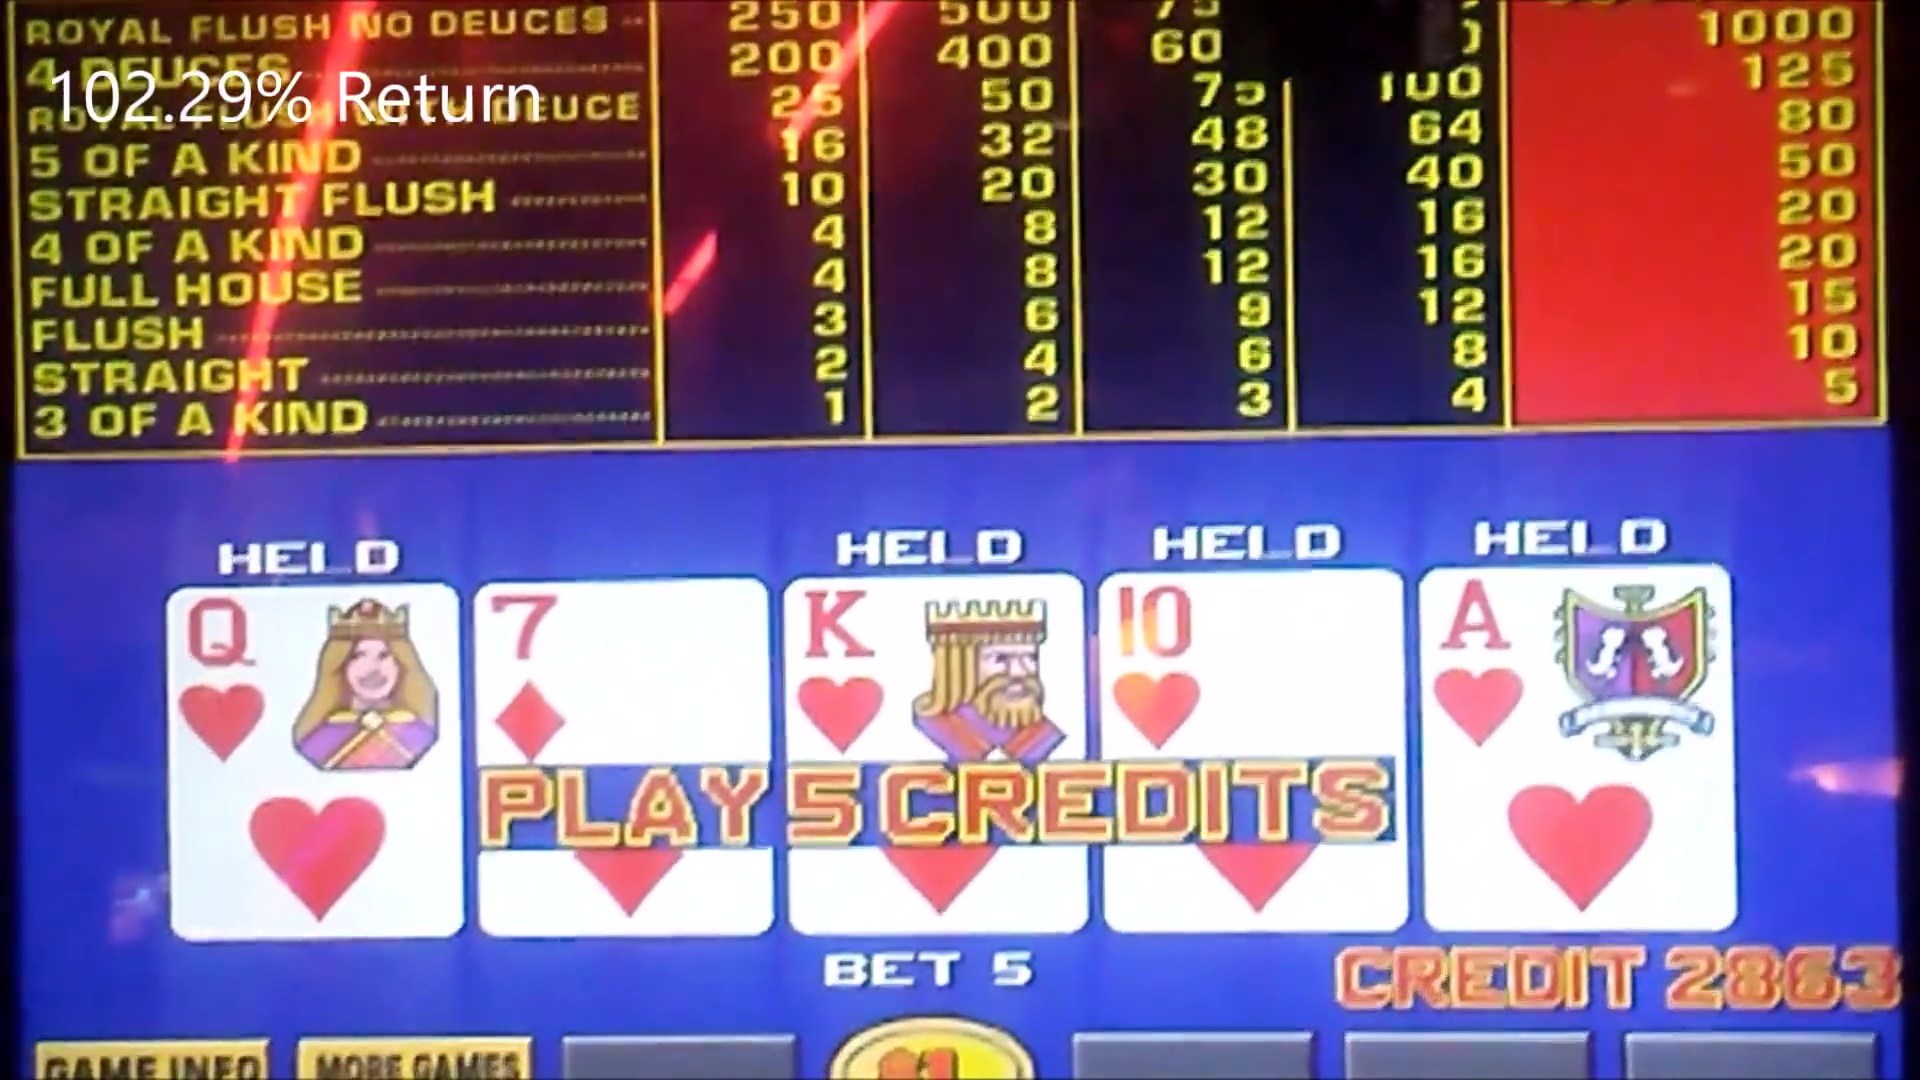7D: (479, 579, 765, 760)
AH: (1422, 564, 1727, 756)
KH: (789, 574, 1091, 756)
QH: (169, 589, 456, 769)
TH: (1102, 570, 1402, 754)
